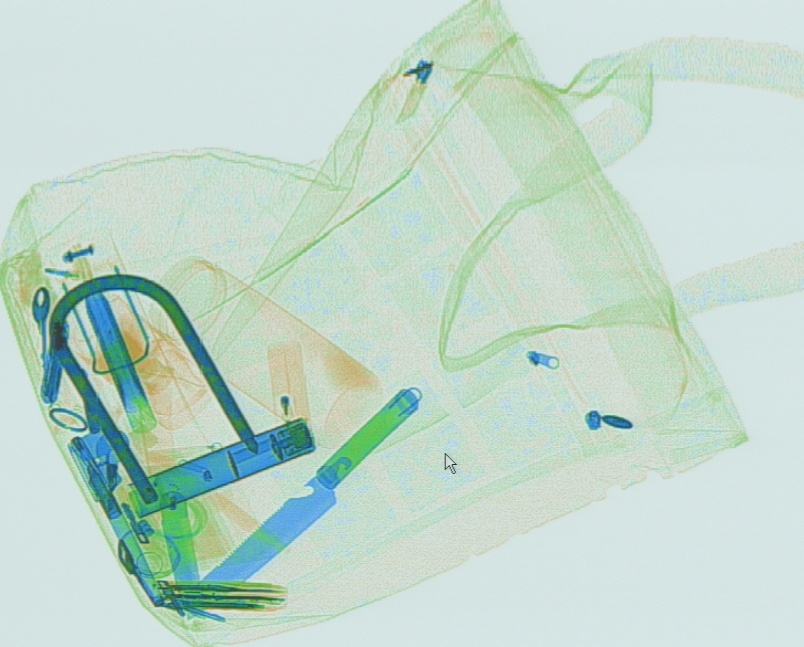knife: (181, 384, 422, 607), (122, 351, 209, 626), (151, 574, 289, 614)
lighter: (264, 338, 315, 459)
